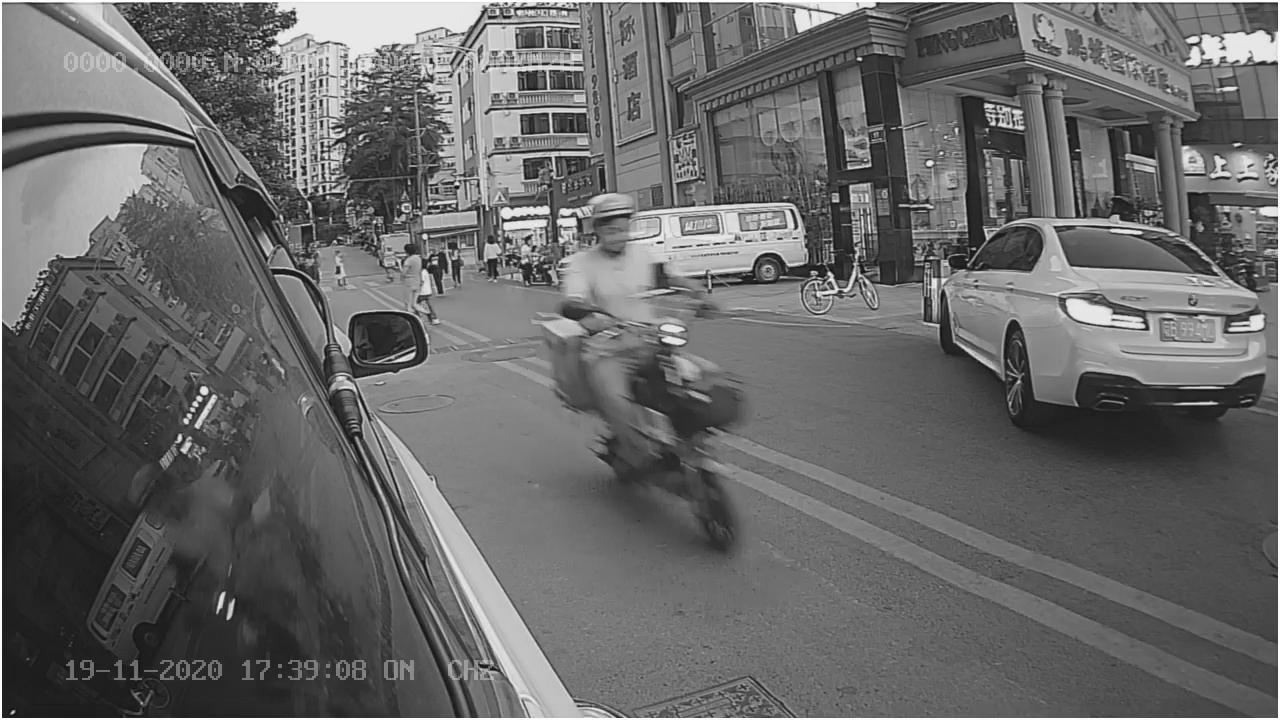person: (552, 190, 670, 359)
